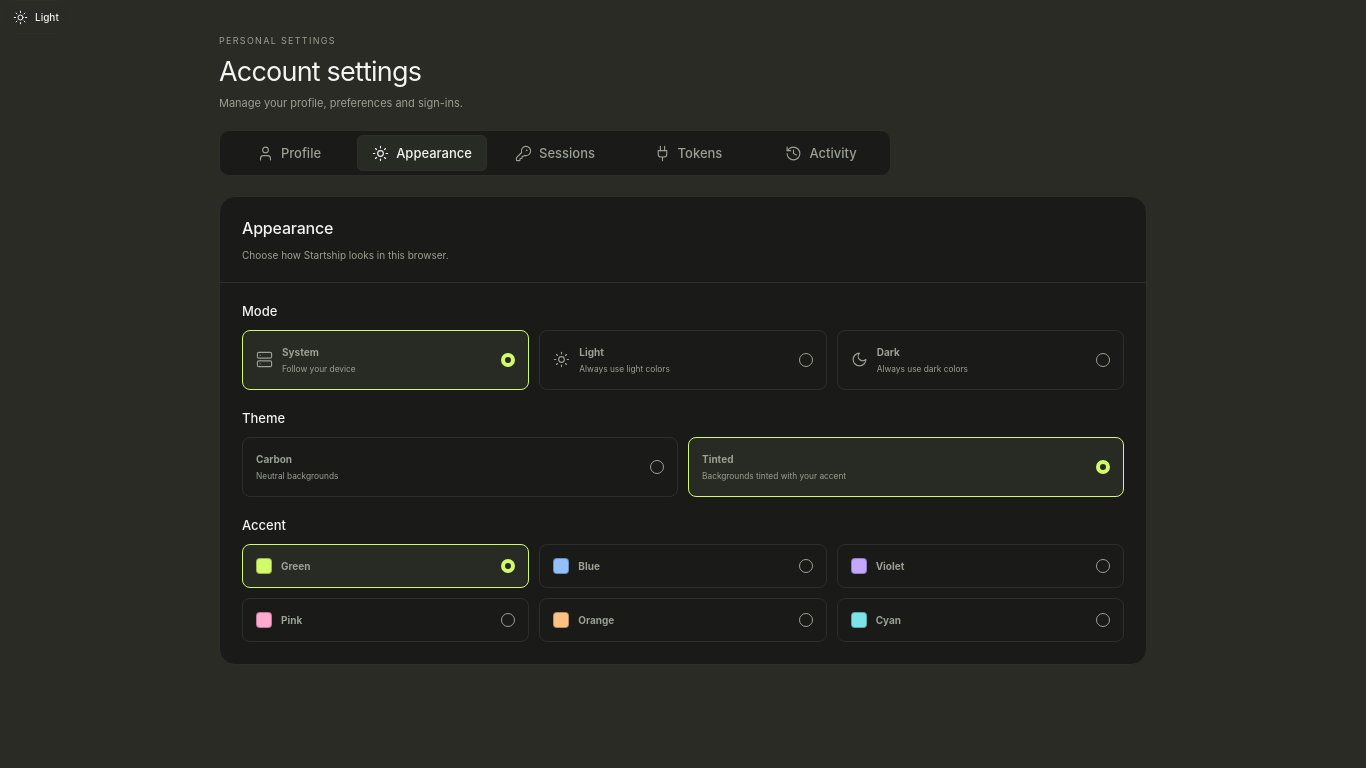
it: persists style, accent and mode independently and restores them before paint
Click the radio button labelled "Carbon Neutral backgrounds" at (274, 459), box [242,437,678,497]
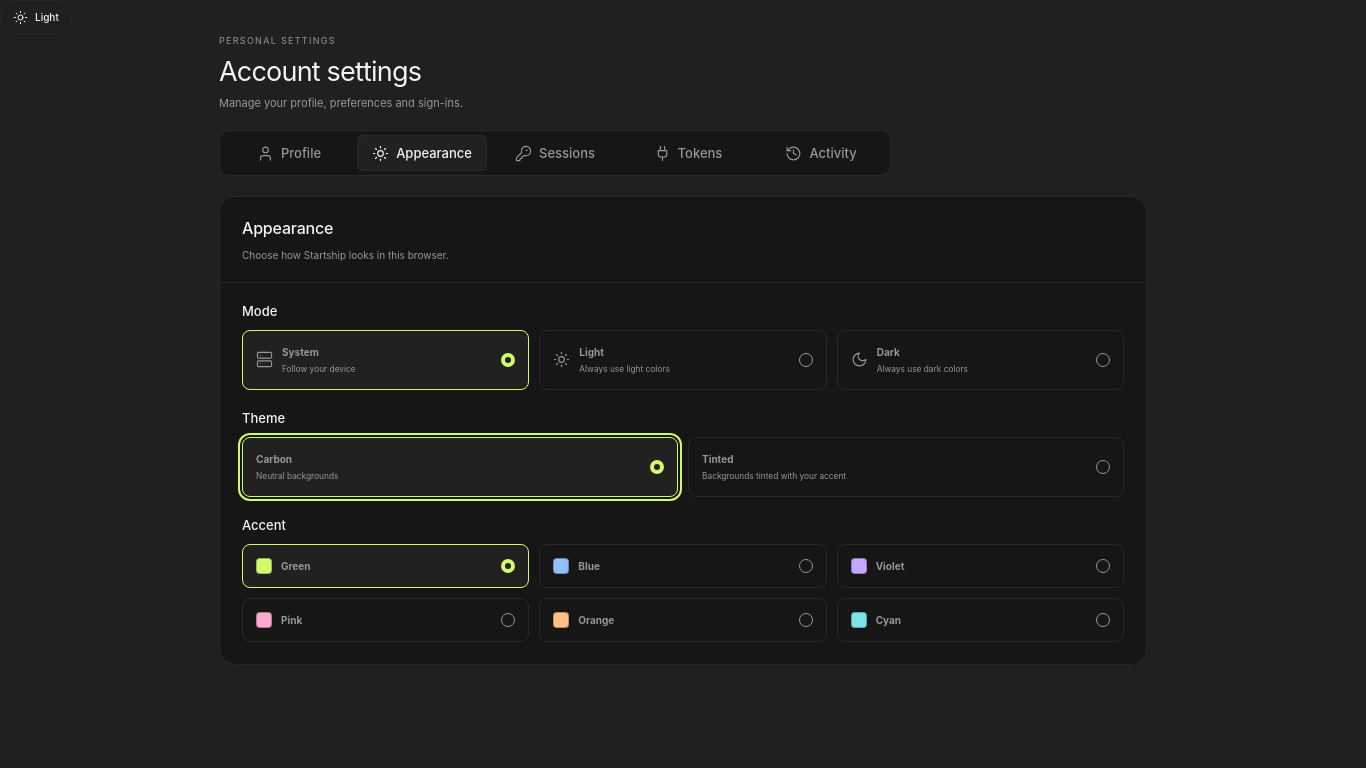
Click the radio button labelled "Blue" at (561, 566), box [539,544,827,588]
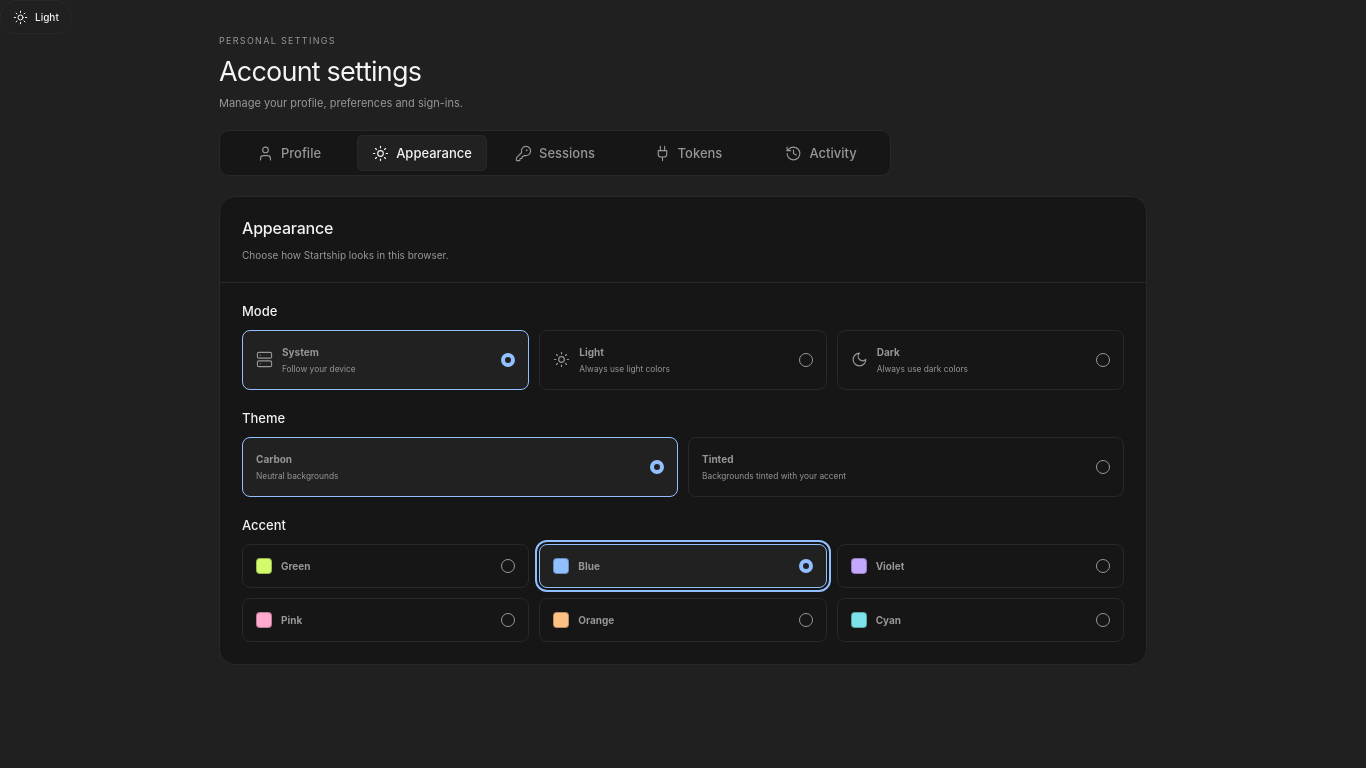
Click the button with aria-label "Switch to light theme" at (36, 17), box [0,0,72,34]
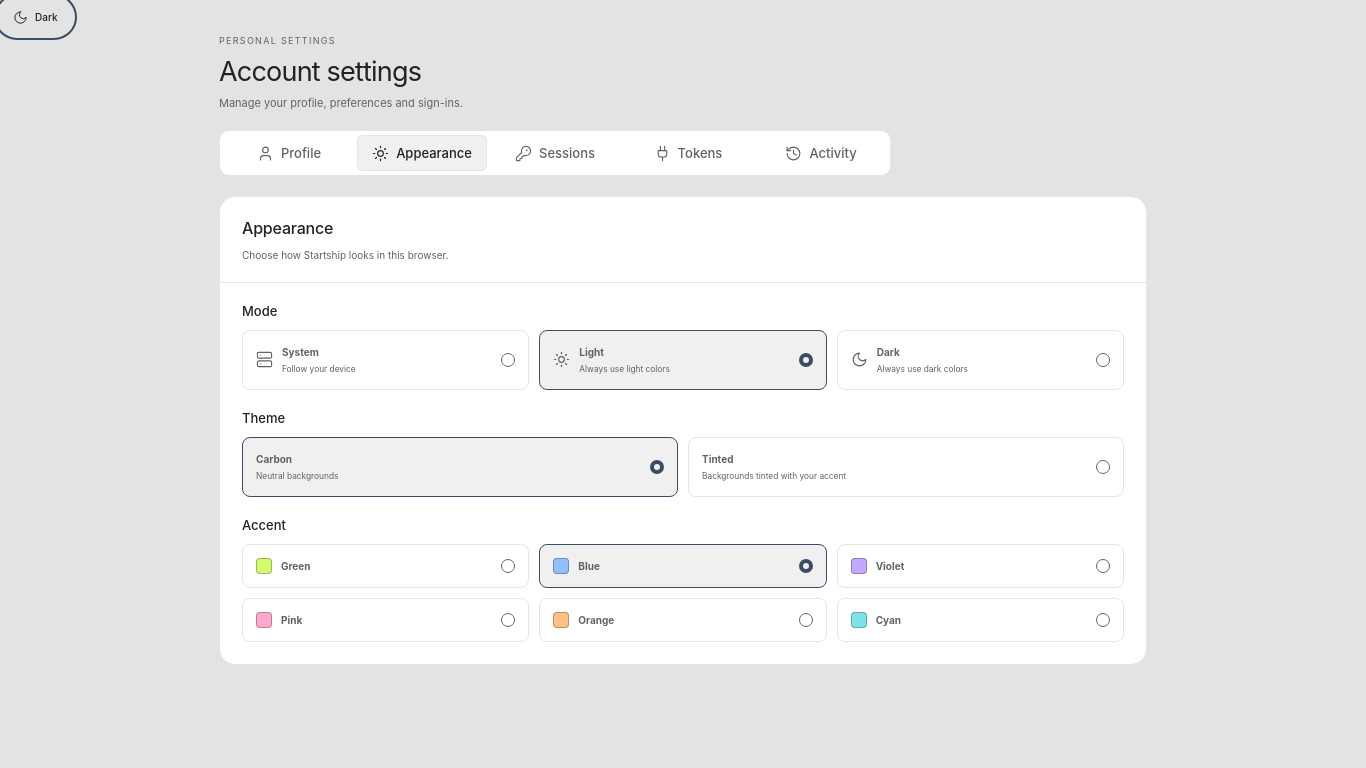
Now the radio button labelled "Carbon Neutral backgrounds" is checked, box [242,437,678,497]
Now the radio button labelled "Blue" is checked, box [539,544,827,588]
Now the radio button labelled "Light Always use light colors" is checked, box [539,330,827,390]
